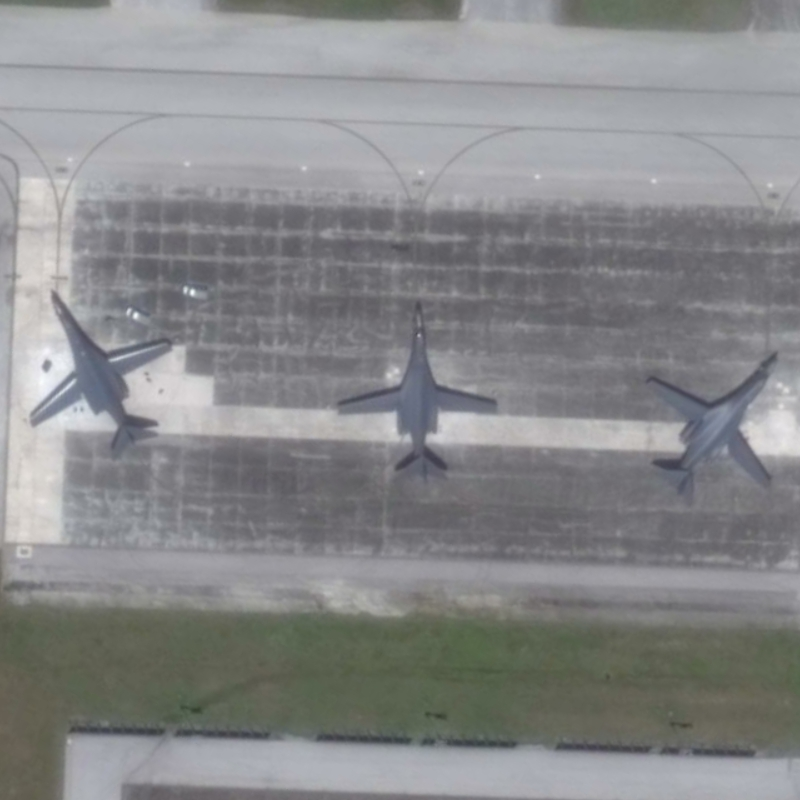A10: (331, 297, 506, 490), (25, 282, 180, 465), (640, 348, 786, 513)
